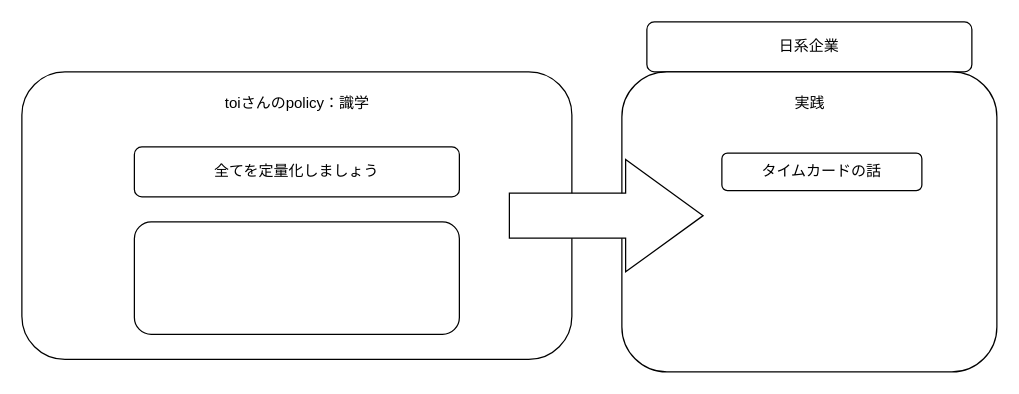
Some shapes in this 1019 by 394 pixel diagram are drawn without their labels. The shapes that lost their labels are listed below. From the top down, each one's box as (x1, y1, x2, y2) in pixels, then its label:
(508, 158, 703, 272): policyを正しく 理解しないで適用
(133, 221, 459, 334): 非定量的目標は、達成手段がわからないし、 達成できているかもわからない。 よって、定量的な目標を掲げることで、 向上しているをmotivateする。
